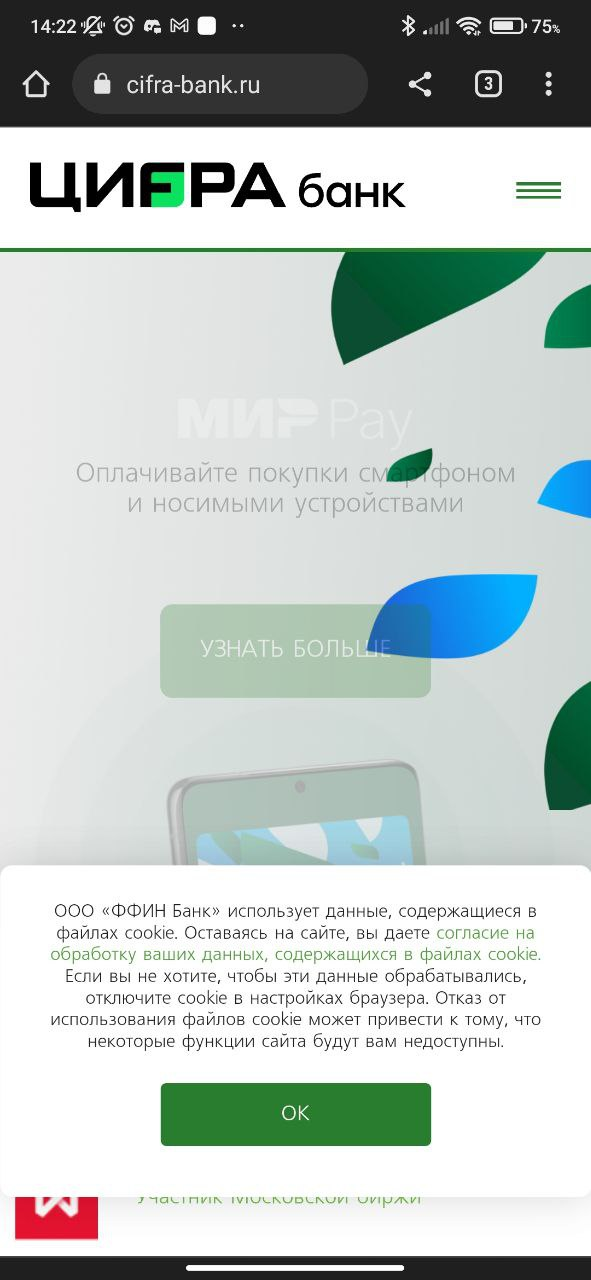burger_menu: (510, 175, 567, 205)
